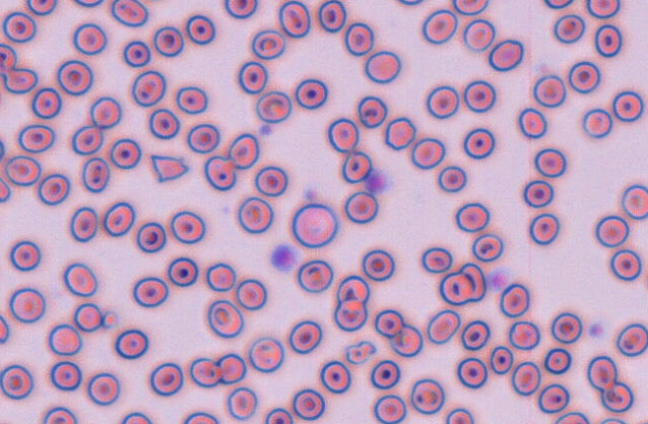PLT: (272, 243, 297, 270), (486, 267, 511, 290), (366, 172, 387, 193), (590, 321, 604, 338), (304, 187, 318, 202), (259, 123, 274, 136)
RBC: (291, 202, 338, 248), (206, 299, 243, 338), (237, 196, 273, 233), (56, 59, 93, 95), (9, 287, 45, 323), (131, 70, 166, 107), (409, 378, 444, 414), (248, 336, 283, 372), (421, 9, 457, 44), (62, 262, 97, 297), (426, 308, 460, 344), (364, 50, 401, 83), (439, 271, 474, 305), (288, 319, 322, 354), (170, 210, 205, 244), (203, 155, 236, 191), (297, 259, 333, 292), (255, 90, 291, 123), (4, 154, 41, 186), (278, 0, 310, 37), (389, 323, 423, 357), (149, 362, 183, 396), (425, 85, 459, 119), (0, 364, 33, 399), (47, 323, 82, 356), (102, 201, 135, 236), (488, 38, 523, 71), (72, 22, 106, 55), (327, 117, 359, 152), (410, 137, 445, 169), (586, 355, 617, 391), (228, 133, 259, 169), (132, 276, 168, 307), (17, 123, 54, 153), (87, 372, 120, 405), (609, 248, 642, 281), (533, 74, 566, 107), (333, 299, 367, 331), (319, 359, 351, 393), (384, 116, 416, 150), (344, 191, 378, 223), (615, 322, 647, 356), (2, 11, 36, 43), (595, 215, 629, 247), (463, 79, 495, 113), (454, 201, 489, 232), (292, 388, 325, 420), (361, 249, 394, 281), (462, 18, 495, 50), (37, 173, 70, 205), (568, 60, 600, 93), (600, 381, 634, 412), (226, 386, 257, 420), (114, 328, 148, 359), (499, 282, 529, 317), (69, 206, 98, 242), (110, 0, 148, 27), (89, 96, 121, 128), (235, 278, 267, 310), (550, 311, 582, 343), (109, 137, 141, 169), (463, 127, 495, 159), (341, 150, 372, 183), (254, 165, 287, 196), (528, 212, 559, 245), (294, 78, 327, 109), (344, 22, 374, 56), (251, 29, 285, 59), (511, 361, 540, 396), (215, 352, 246, 384), (189, 356, 221, 387), (49, 360, 81, 391), (612, 90, 643, 122), (336, 274, 369, 304), (357, 95, 387, 128), (186, 123, 219, 153), (533, 147, 566, 177), (238, 60, 267, 94), (81, 157, 109, 192), (456, 357, 487, 388), (167, 256, 198, 287), (148, 108, 179, 139), (9, 240, 40, 271), (537, 383, 569, 413), (508, 320, 540, 350), (71, 125, 103, 155), (31, 87, 61, 119), (136, 221, 166, 253), (517, 107, 547, 139), (153, 25, 183, 57), (373, 394, 406, 423), (3, 67, 38, 94), (460, 319, 490, 350), (471, 233, 503, 262), (317, 0, 346, 32), (553, 14, 585, 43), (175, 85, 207, 114), (594, 24, 622, 57), (621, 184, 647, 219), (374, 308, 404, 338), (370, 359, 400, 389), (205, 262, 235, 292), (582, 108, 612, 138), (185, 14, 215, 44), (73, 302, 102, 332), (523, 179, 553, 208), (421, 246, 452, 273), (437, 165, 466, 192), (543, 347, 571, 374), (122, 40, 150, 67), (489, 345, 513, 374), (586, 0, 620, 18), (223, 0, 257, 18), (42, 406, 77, 423), (452, 0, 488, 15), (0, 43, 17, 71), (26, 0, 57, 15), (264, 407, 293, 423), (445, 407, 474, 423), (554, 411, 589, 423), (183, 411, 218, 423), (120, 411, 152, 423), (543, 0, 573, 9), (0, 314, 9, 343), (0, 177, 10, 202), (73, 0, 103, 7), (599, 417, 626, 423), (396, 0, 423, 5), (0, 138, 5, 161)
Schistocyte: (150, 154, 189, 182), (346, 341, 377, 362), (102, 311, 118, 329)
